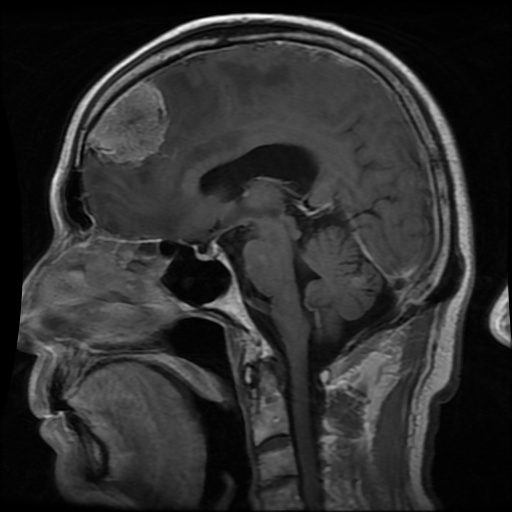meningioma: (85, 81, 170, 163)
